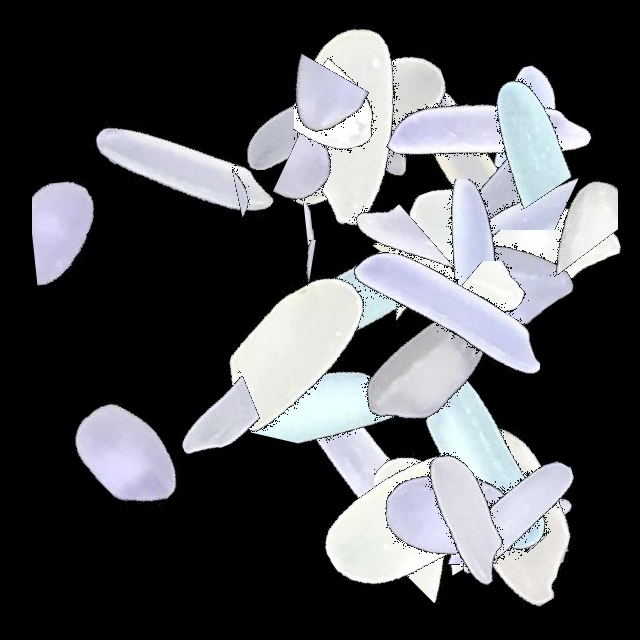Broken: (304, 179, 554, 342), (251, 243, 411, 493), (186, 37, 436, 194), (433, 4, 583, 254), (32, 104, 179, 354), (60, 350, 310, 490), (374, 390, 507, 640), (237, 5, 369, 255), (491, 72, 618, 322), (294, 0, 419, 250), (390, 110, 640, 230), (218, 120, 468, 236), (346, 174, 462, 424), (342, 445, 592, 556), (403, 390, 505, 640), (321, 246, 571, 346), (356, 211, 606, 311), (414, 390, 511, 640), (137, 240, 387, 330), (377, 261, 627, 346), (350, 501, 600, 584), (152, 147, 402, 228), (292, 11, 372, 261), (222, 203, 472, 283), (403, 196, 480, 446)
Full: (337, 390, 587, 640), (240, 334, 490, 584), (390, 390, 640, 640), (59, 42, 309, 292), (2, 330, 252, 580), (258, 157, 508, 407), (390, 30, 640, 280), (351, 388, 601, 638), (363, 53, 613, 303), (239, 4, 489, 254), (390, 106, 640, 356), (385, 156, 635, 406), (168, 228, 418, 478), (297, 390, 547, 640), (390, 58, 640, 308), (230, 0, 480, 250), (353, 335, 603, 585), (194, 0, 444, 250), (229, 0, 479, 250), (322, 390, 572, 640), (301, 246, 551, 496), (367, 13, 617, 263), (341, 390, 591, 640), (323, 186, 573, 436)
